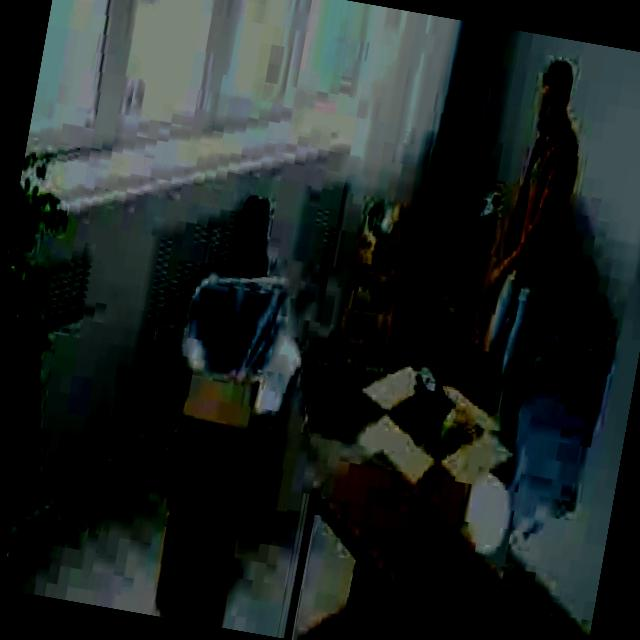Box: (164, 362, 259, 512), (156, 512, 242, 618)
